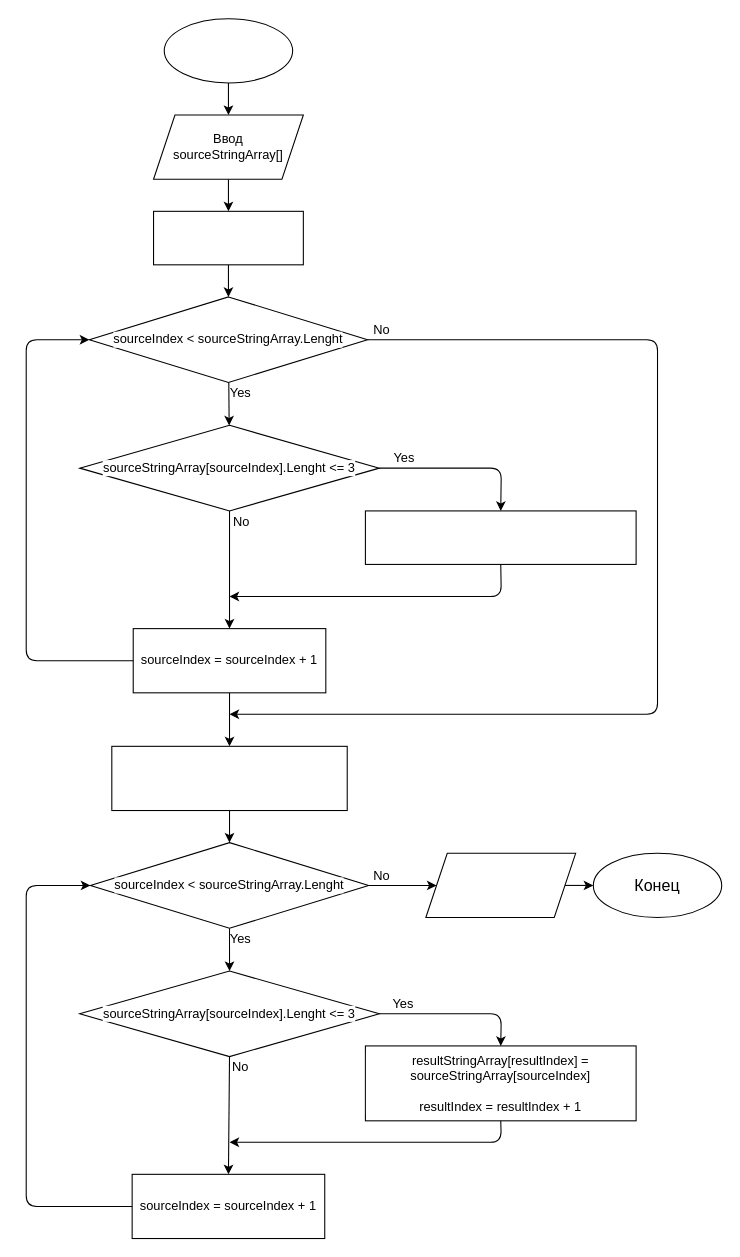
Image size: 740x1257. Some labels were removed from this diagram. Here are the shapes that lost their labels. From the top down, the box of each, then its label:
(163, 18, 293, 83): Начало
(152, 210, 303, 265): lenghtResultArray = 0 sourceIndex = 0
(364, 510, 636, 564): lenghtResultArray = l enghtResultArray + 1
(111, 745, 347, 811): resultStringArray[ lenghtResultArray ] sourceIndex = 0 resultIndex = 0
(425, 852, 576, 918): Вывод resultStringArray[]
